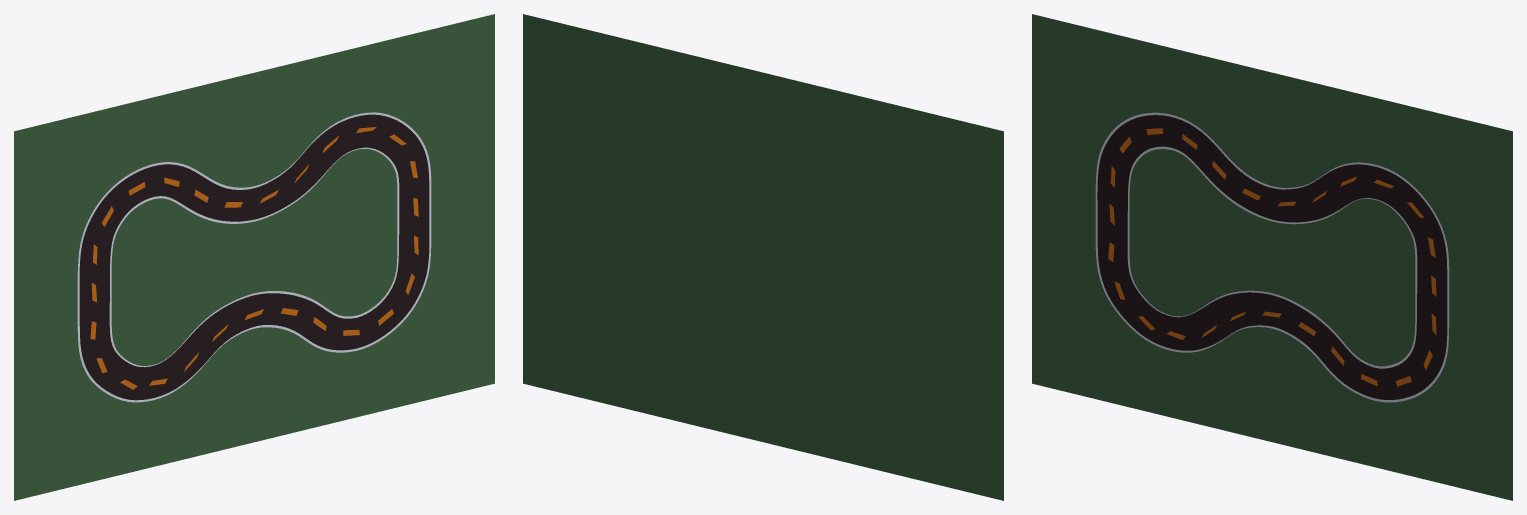
The model's file is track.obj.
The picture shows the model from 3 angles, left to right: view 1: azimuth 30°, elevation 25°; view 2: azimuth 150°, elevation 25°; view 3: azimuth 330°, elevation 25°; orthographic projection.
Size of the model in its own units: 8.64 by 6.35 by 0.0025.
Materials: 4 (4 with a texture image).
